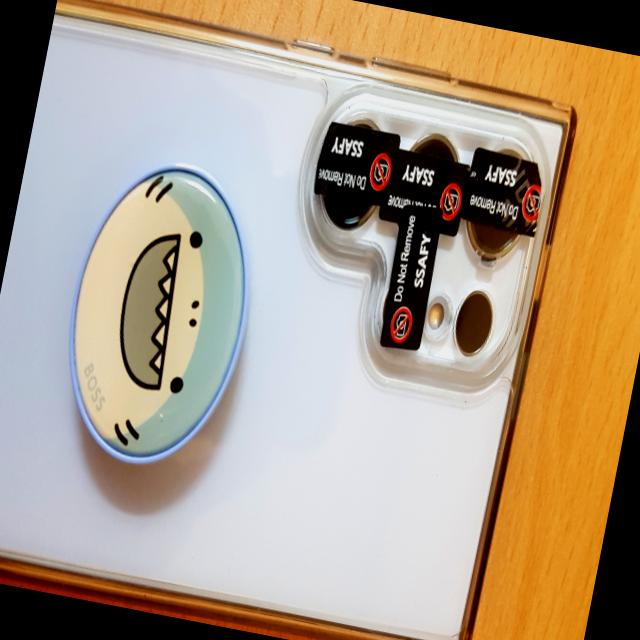phone: (0, 0, 585, 640)
removed_sticker: (372, 204, 443, 357), (307, 118, 400, 208), (376, 152, 472, 238), (474, 153, 546, 237)
